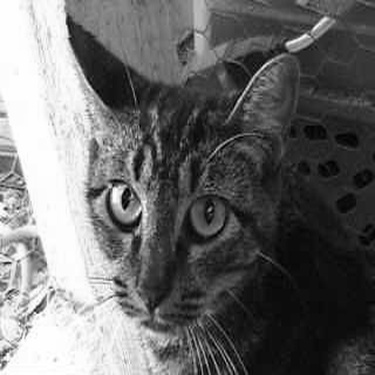cat: (55, 4, 351, 363)
